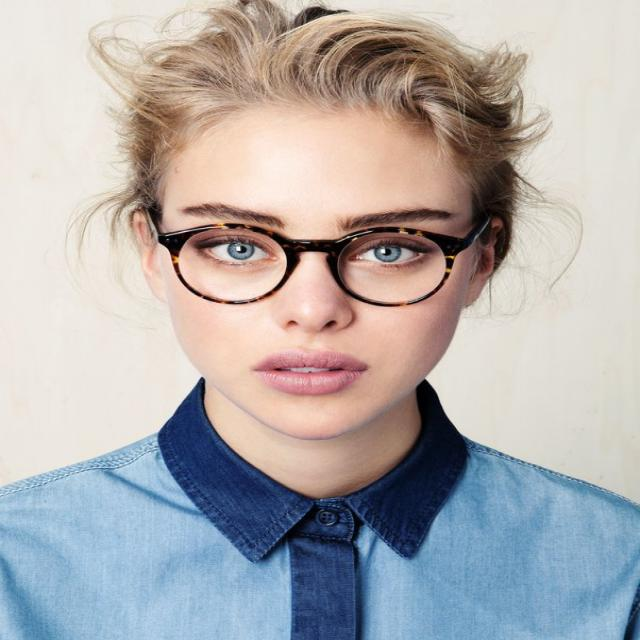Glasses: (144, 205, 489, 310)
